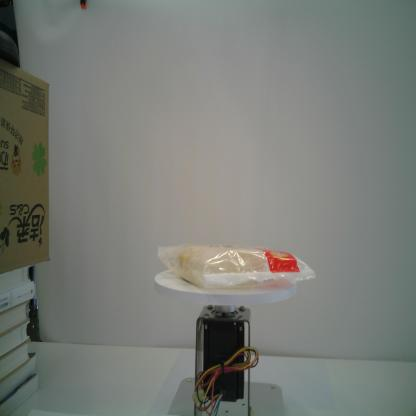Dessert: (156, 242, 318, 296)
